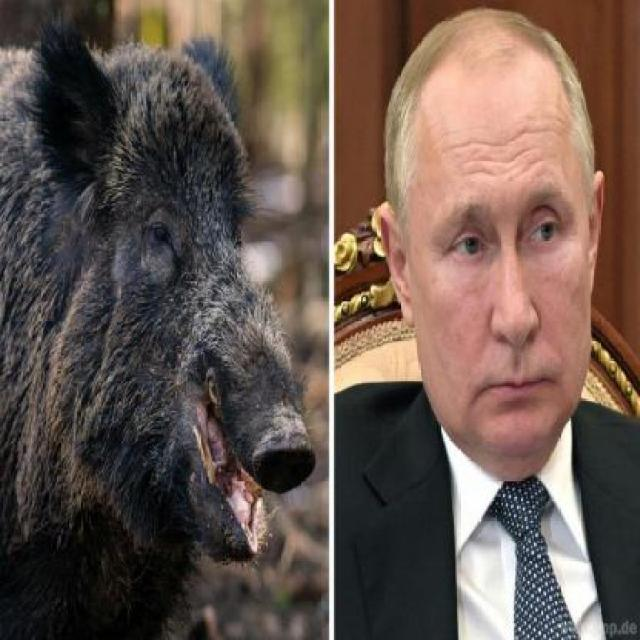wildboar: (0, 0, 320, 640)
